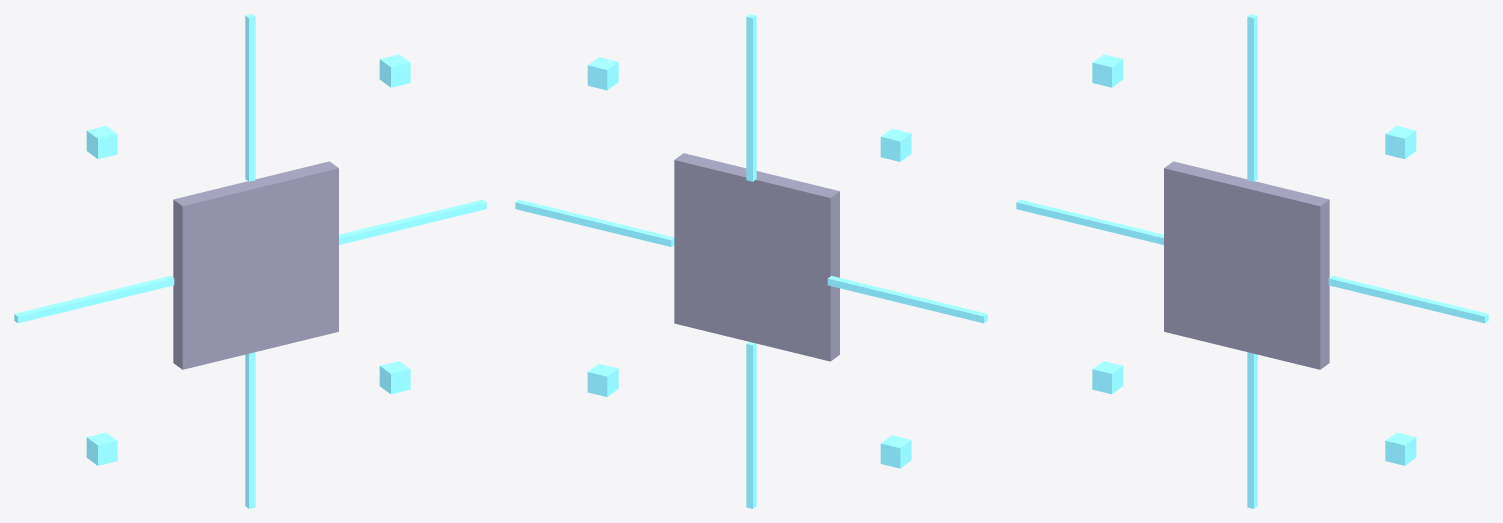
The model's file is tile_buildable.glb.
3 renders of one model, left to right at view 1: azimuth 30°, elevation 25°; view 2: azimuth 150°, elevation 25°; view 3: azimuth 330°, elevation 25°, orthographic.
Parts seen in each view (by area): view 1: tile_buildable; view 2: tile_buildable; view 3: tile_buildable.
Boxes of the visible parts, box(x1,y1,x2,y2) form: tile_buildable: box(14, 14, 486, 508); tile_buildable: box(515, 14, 987, 508); tile_buildable: box(1016, 14, 1488, 508).
Size of the model in its own units: 1.44 by 1.44 by 0.095.
